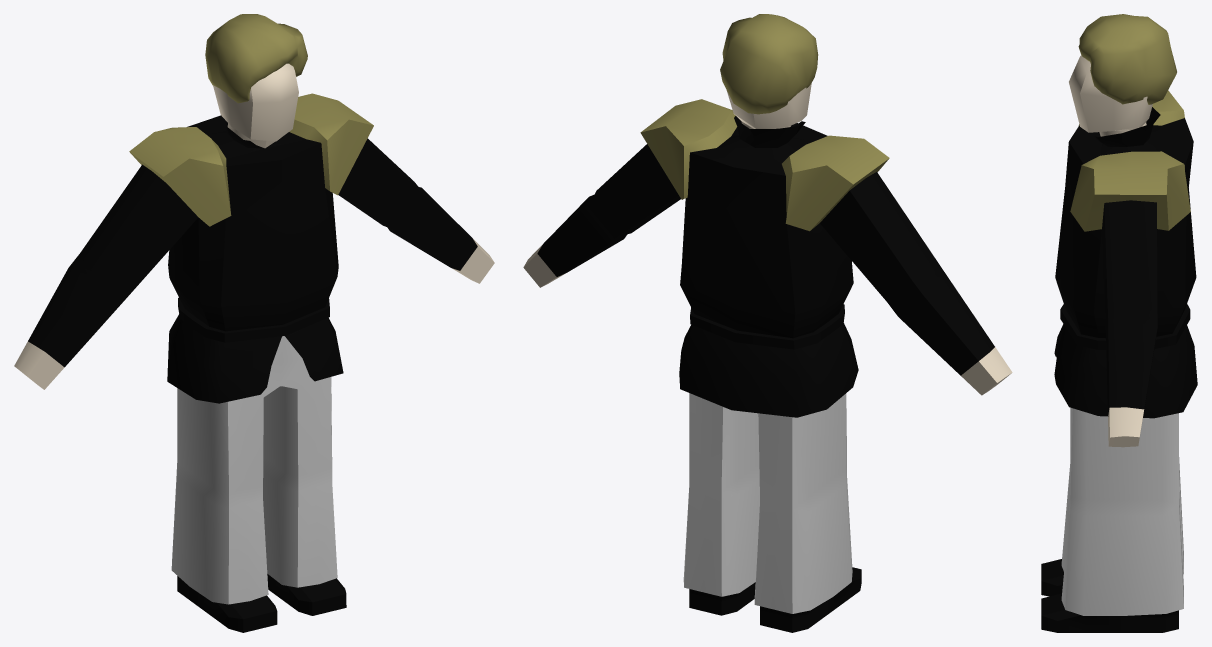
The model's file is Perry_Mob.fbx.
3 views of the same model, side by side, from view 1: azimuth 30°, elevation 25°; view 2: azimuth 150°, elevation 25°; view 3: azimuth 270°, elevation 25° (orthographic). The views are drawn at different scales.
Visible parts, largest first — view 1: Perry, Hair; view 2: Perry, Hair; view 3: Perry, Hair.
Boxes of the visible parts, box(x1,y1,x2,y2) form: Perry: box(14, 63, 494, 632); Hair: box(205, 14, 307, 103); Perry: box(523, 83, 1012, 632); Hair: box(720, 14, 818, 114); Perry: box(1041, 55, 1197, 632); Hair: box(1078, 14, 1176, 104).
Bounding box in the file's own units: 118 × 136 × 33.09.
